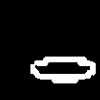chain: (31, 57, 94, 82)
